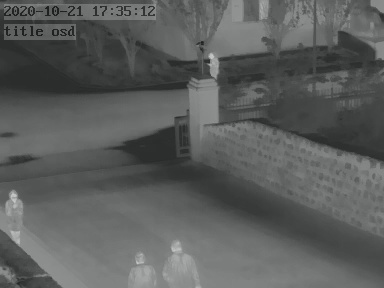person: (165, 237, 198, 288), (3, 188, 26, 246), (128, 244, 155, 288), (204, 53, 219, 80)
